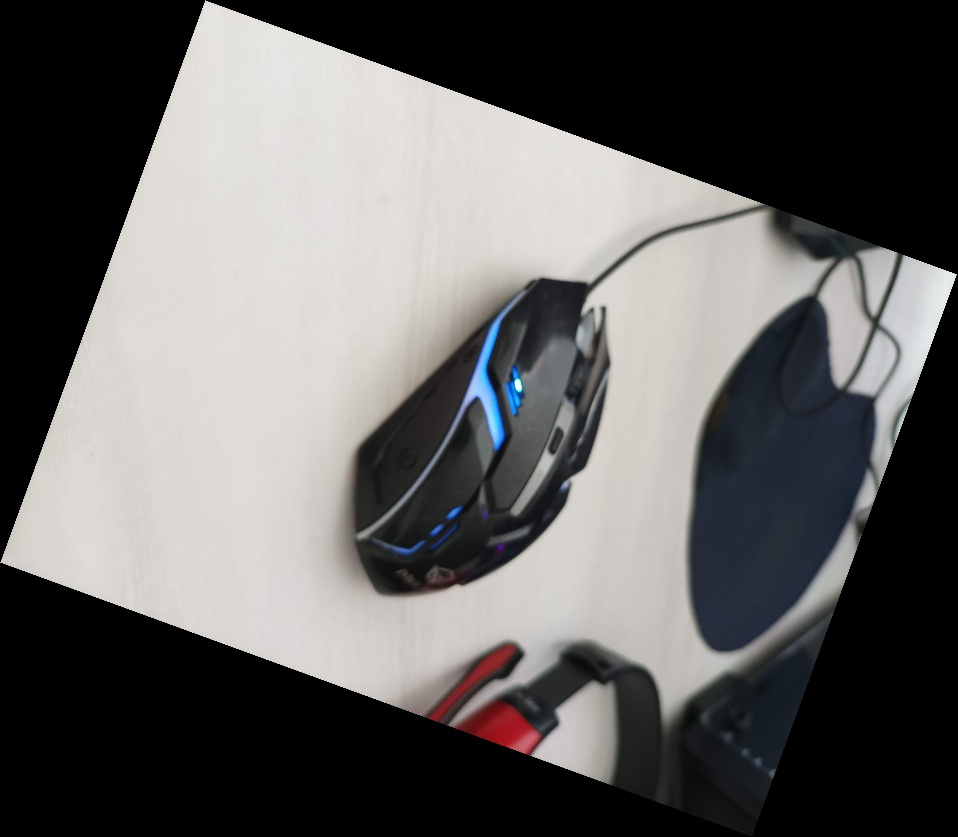mouse: (344, 264, 615, 601)
